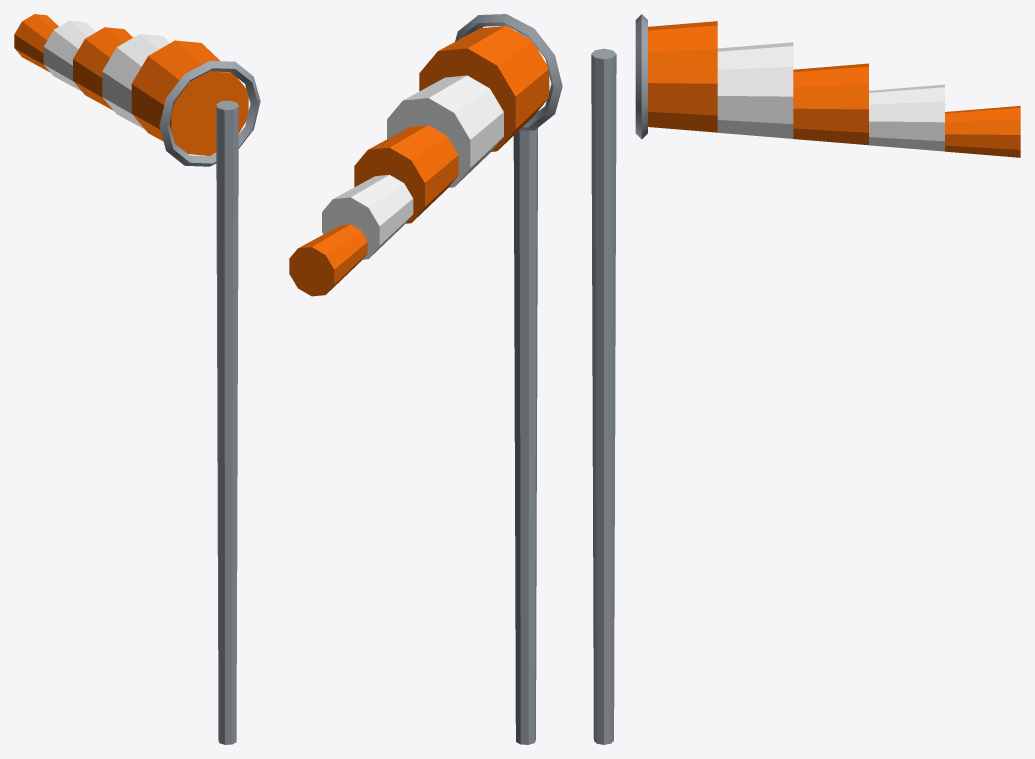
Rendered from airport_windsock.glb.
3 views of the same model, side by side, from view 1: azimuth 30°, elevation 25°; view 2: azimuth 150°, elevation 25°; view 3: azimuth 270°, elevation 25° (orthographic). The views are drawn at different scales.
Parts seen in each view (by area): view 1: AirportWindsock_body; view 2: AirportWindsock_body; view 3: AirportWindsock_body.
Boxes of the visible parts, x1,y1,x2,y2 form: AirportWindsock_body: [14, 14, 260, 744]; AirportWindsock_body: [289, 14, 562, 744]; AirportWindsock_body: [591, 14, 1020, 744].
Size of the model in its own units: 1 by 6.3 by 3.4.
